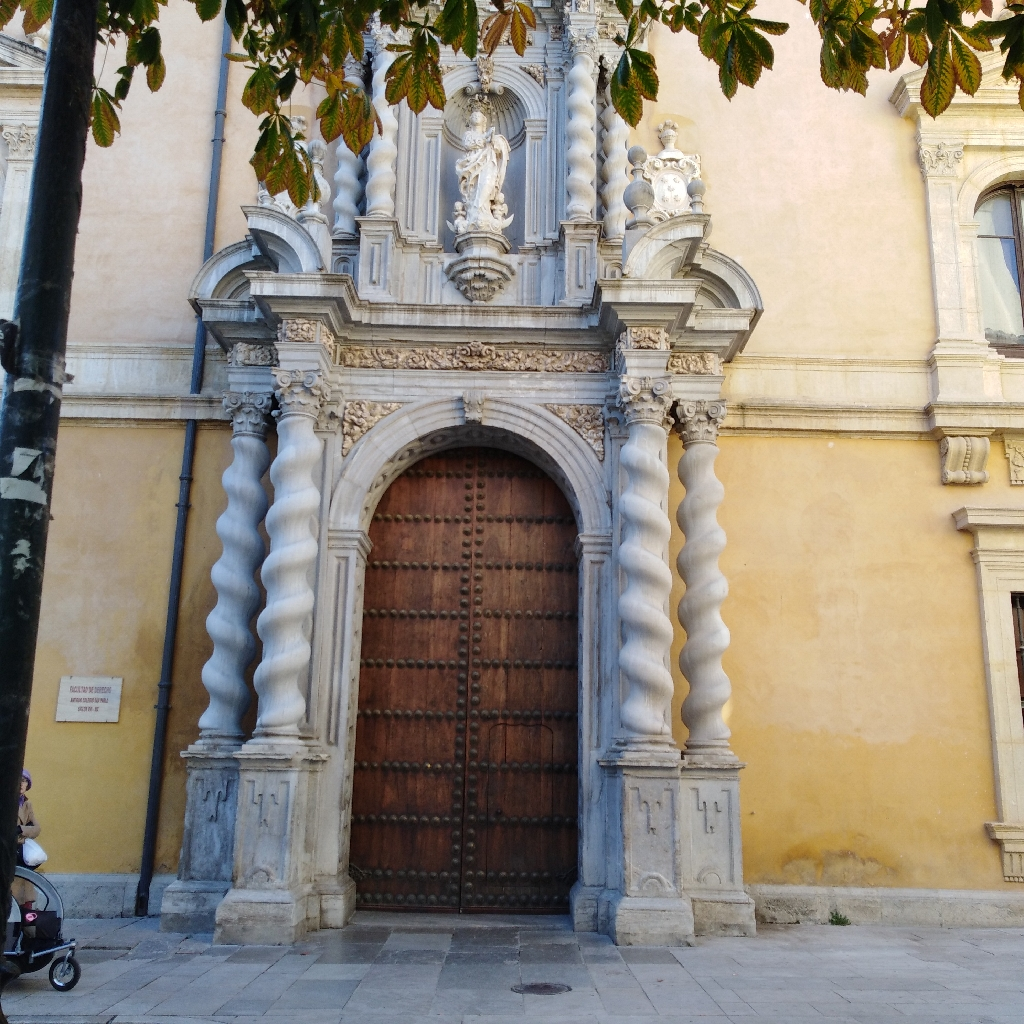arco-medio-punto: (349, 418, 598, 580)
columna-salomonica: (608, 426, 685, 781), (253, 408, 327, 759), (198, 412, 271, 749), (673, 429, 743, 768), (553, 57, 605, 235), (364, 47, 400, 222), (331, 67, 364, 239), (602, 60, 633, 234)
